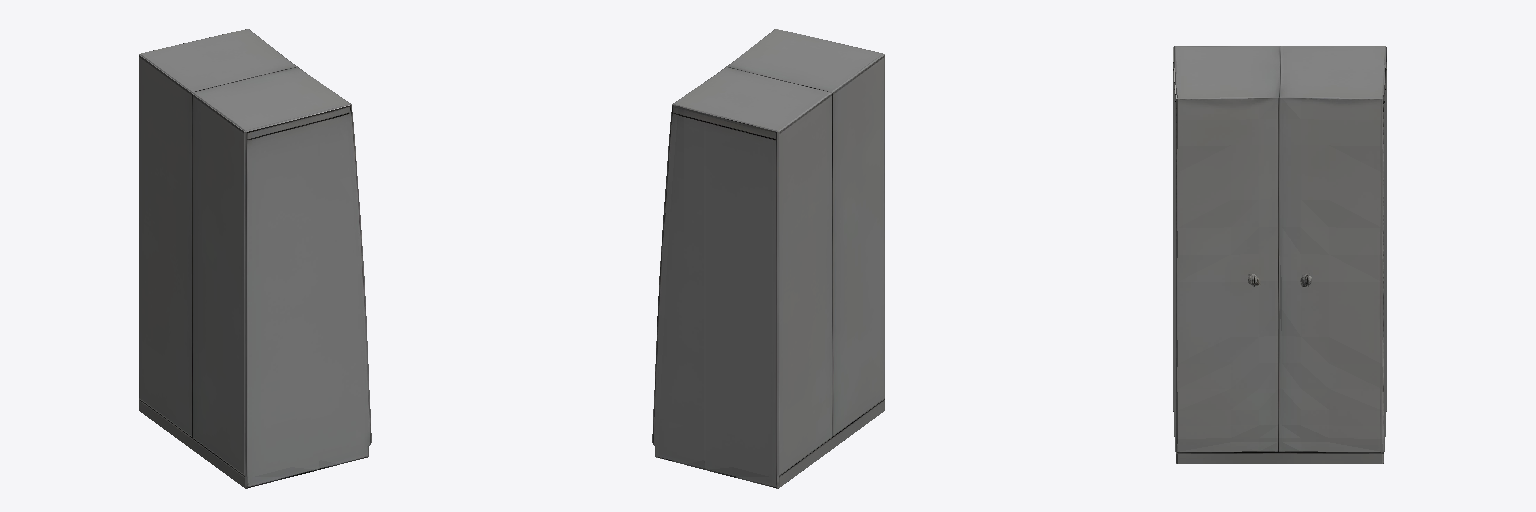
3 renders of one model, left to right at view 1: azimuth 30°, elevation 25°; view 2: azimuth 150°, elevation 25°; view 3: azimuth 270°, elevation 25°, orthographic.
Parts seen in each view (by area): view 1: tripo_node_2b9a4073-45fa-46ea-9e99-04b23353f120; view 2: tripo_node_2b9a4073-45fa-46ea-9e99-04b23353f120; view 3: tripo_node_2b9a4073-45fa-46ea-9e99-04b23353f120.
Part boxes in pixels (x1,y1,x2,y2): tripo_node_2b9a4073-45fa-46ea-9e99-04b23353f120: (139,29,371,488); tripo_node_2b9a4073-45fa-46ea-9e99-04b23353f120: (652,29,884,488); tripo_node_2b9a4073-45fa-46ea-9e99-04b23353f120: (1173,46,1386,463).
Bounding box in the file's own units: 0.3568 × 0.9495 × 0.5141.
1 materials, 1 textured.